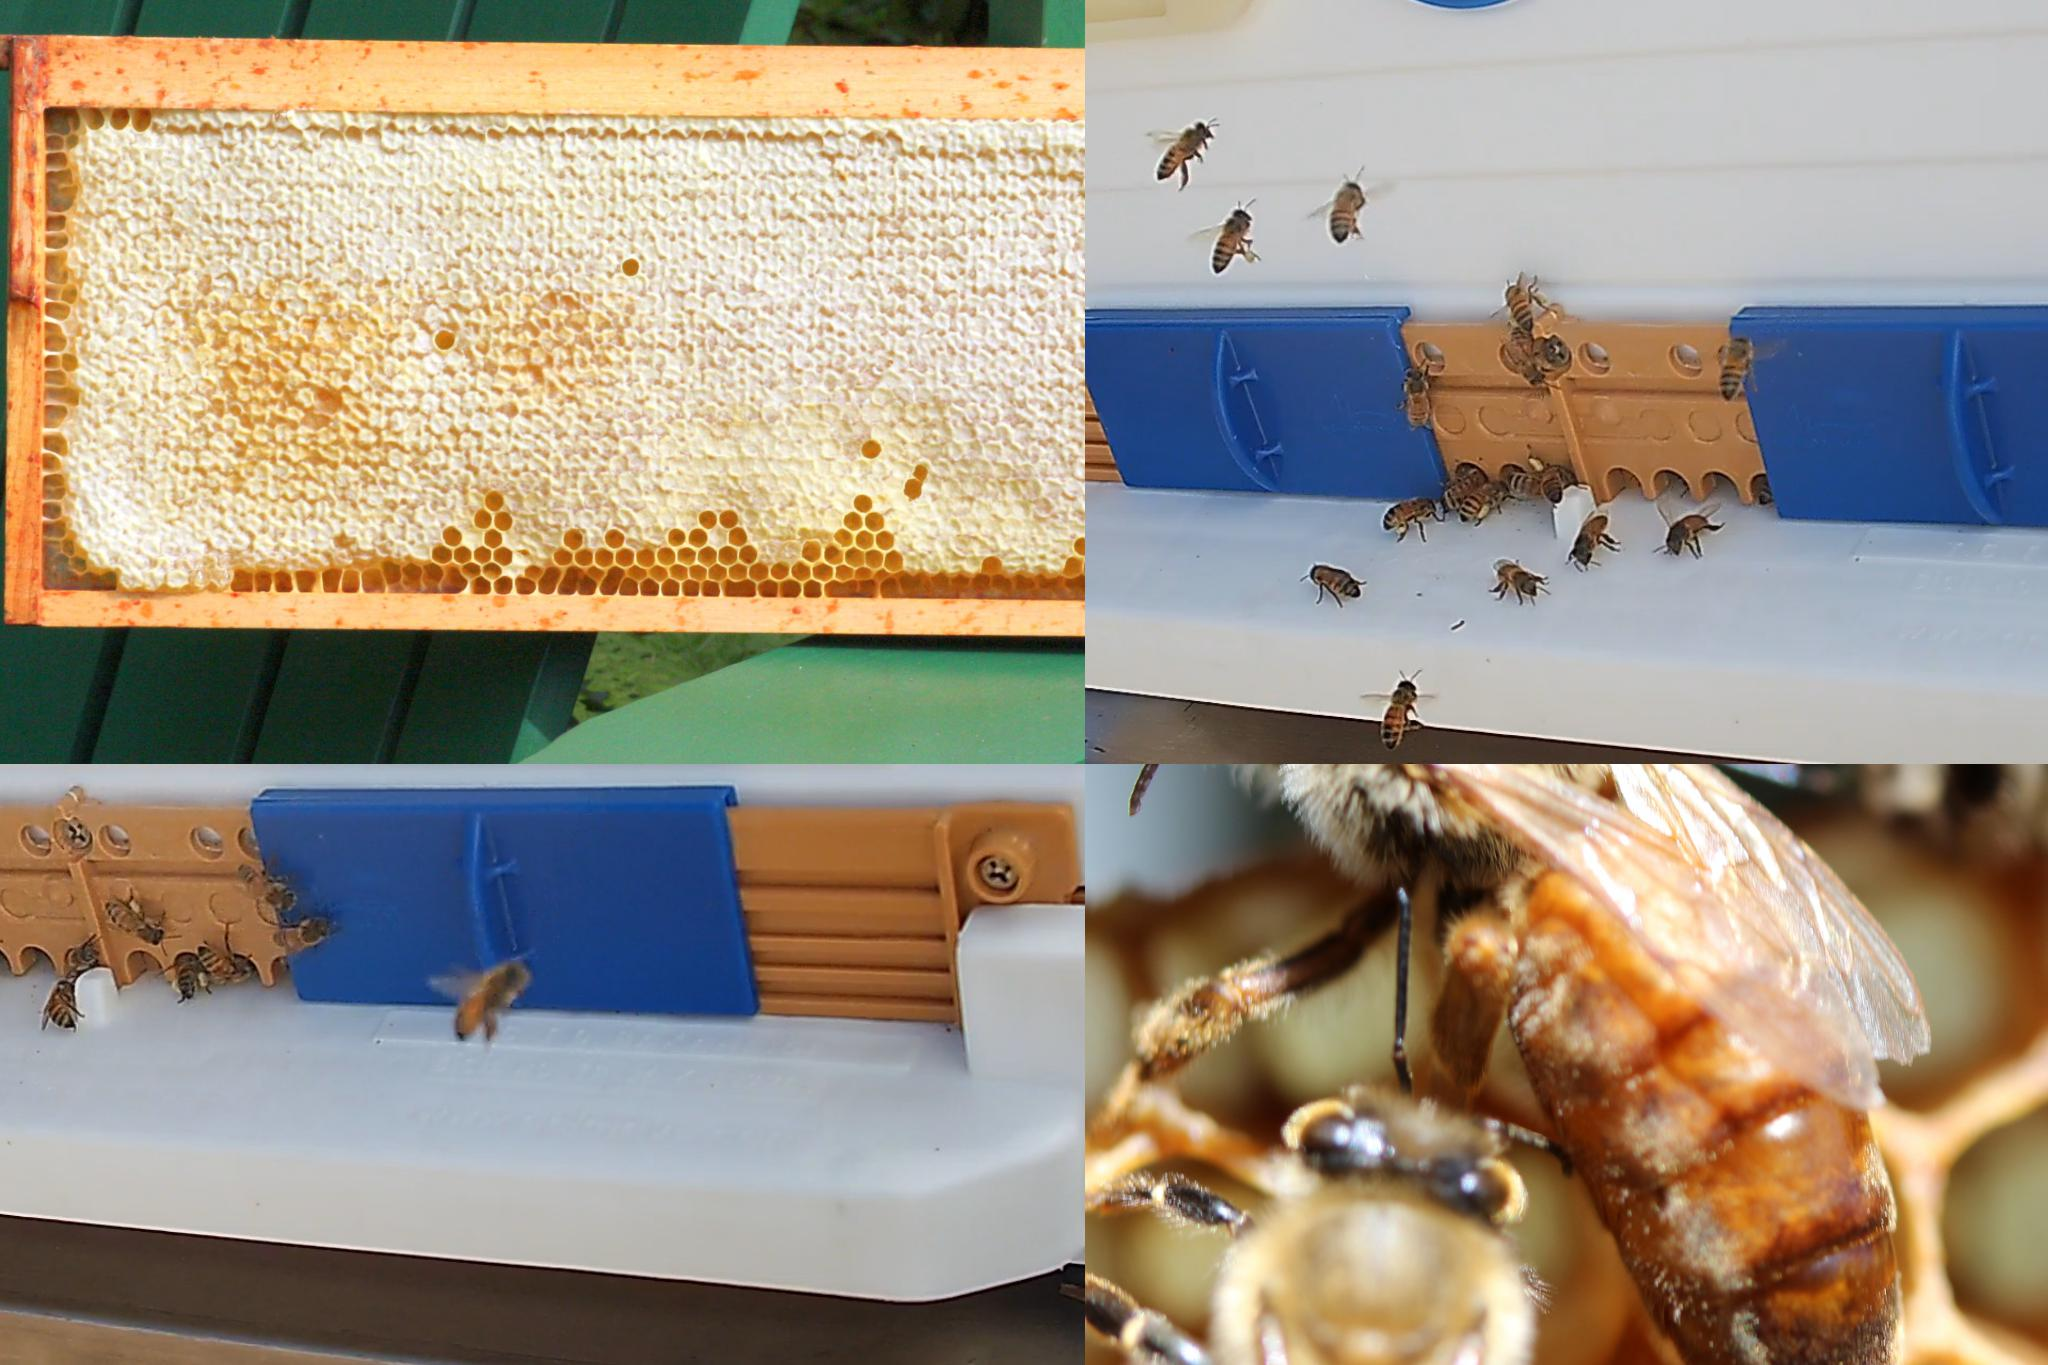bee: (1223, 1109, 1561, 1363), (454, 961, 533, 1037), (1157, 120, 1212, 178), (239, 864, 295, 911), (1718, 337, 1754, 399), (1331, 180, 1366, 239), (1574, 512, 1611, 565), (1384, 681, 1415, 745), (198, 943, 251, 978), (1666, 515, 1708, 556), (1443, 460, 1482, 506), (1509, 328, 1539, 384), (1306, 564, 1360, 596), (44, 980, 76, 1028), (274, 919, 332, 945), (1495, 564, 1536, 597), (1405, 369, 1430, 425), (1506, 283, 1532, 331), (1542, 466, 1573, 500), (65, 945, 97, 975)
pollenbee: (1214, 207, 1256, 271), (105, 899, 164, 940), (1460, 483, 1510, 521), (1509, 463, 1558, 498), (171, 954, 209, 998), (1381, 500, 1434, 530)
queen: (1229, 763, 1900, 1363)
